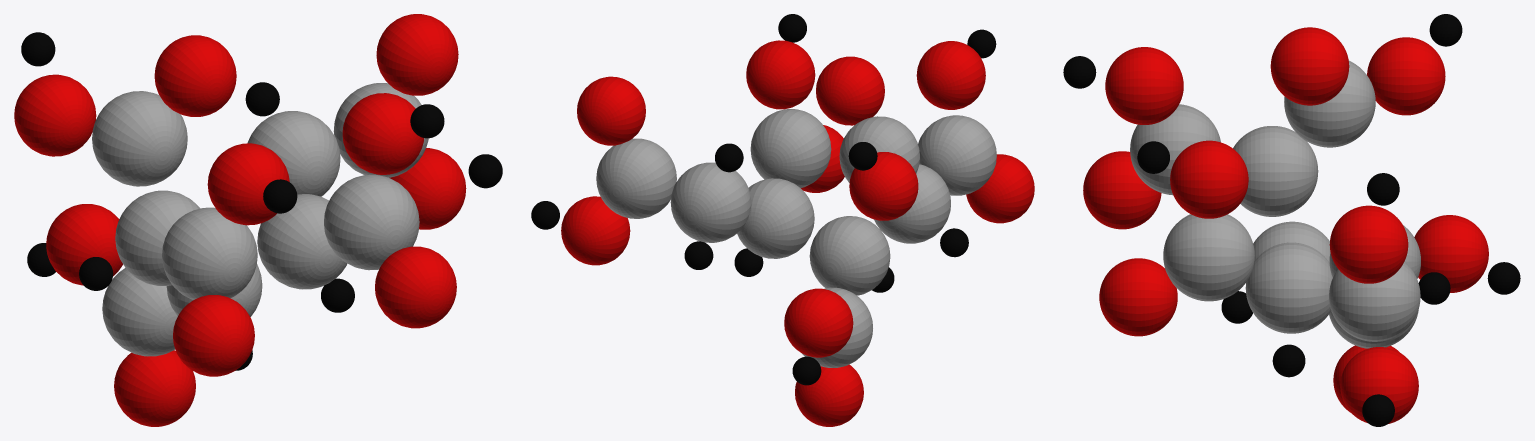
The model's file is Vitamin C.glb.
3 views of the same model, side by side, from view 1: azimuth 30°, elevation 25°; view 2: azimuth 150°, elevation 25°; view 3: azimuth 270°, elevation 25° (orthographic). The views are drawn at different scales.
Parts seen in each view (by area): view 1: world; view 2: world; view 3: world.
Boxes of the visible parts, x1,y1,x2,y2 form: world: (14, 14, 502, 426); world: (531, 14, 1034, 426); world: (1063, 14, 1520, 426).
Size of the model in its own units: 7.88 by 6.55 by 6.98.
